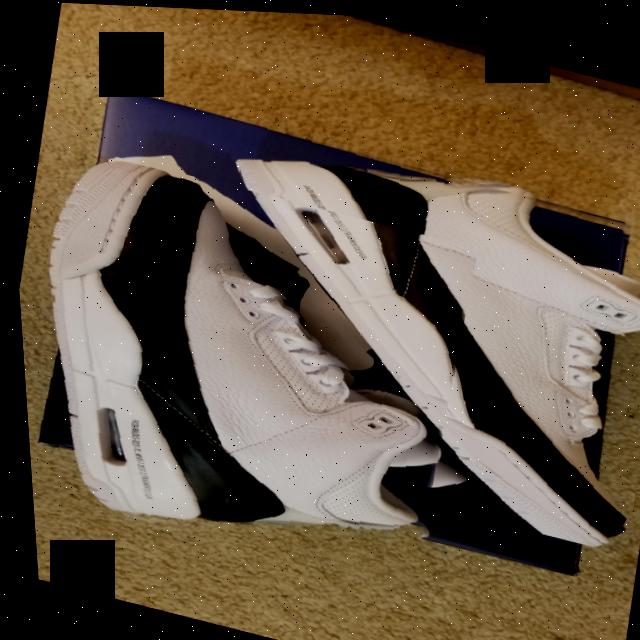shoe: (7, 141, 493, 595), (173, 114, 640, 551)
